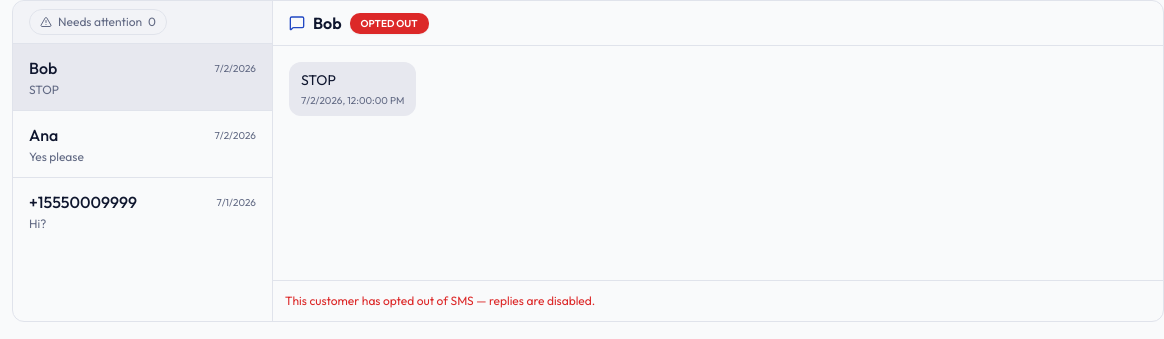
Test case: SmsConversations › offers no reply box for numbers not linked to a customer
Click the button with test id "conversation-item-p:+15550009999": x=142, y=211 [13,178,272,244]
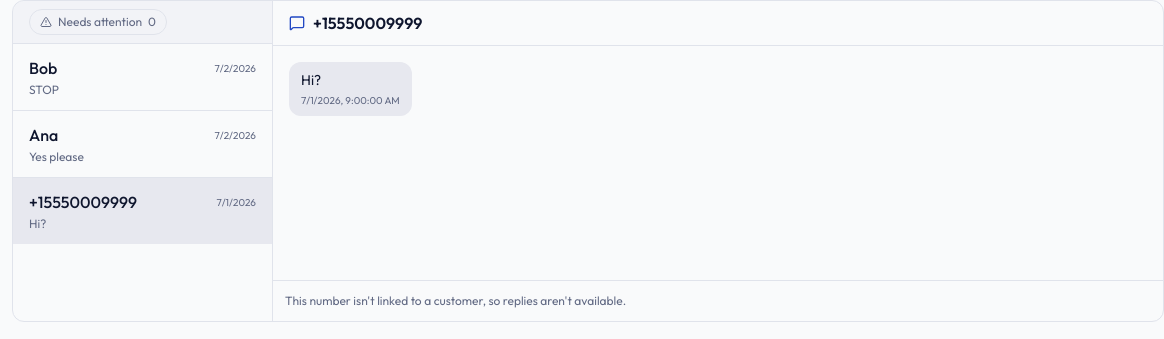
Expected: the text with test id "text-no-reply" is shown, [285,293,626,308]
